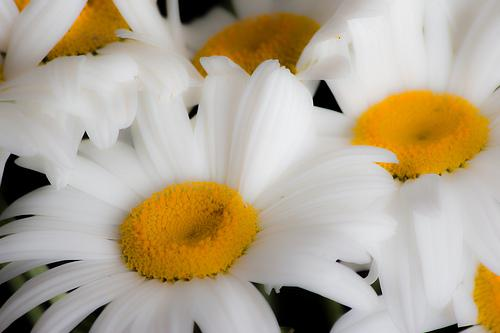daisy: (1, 58, 400, 333), (294, 1, 500, 293)
